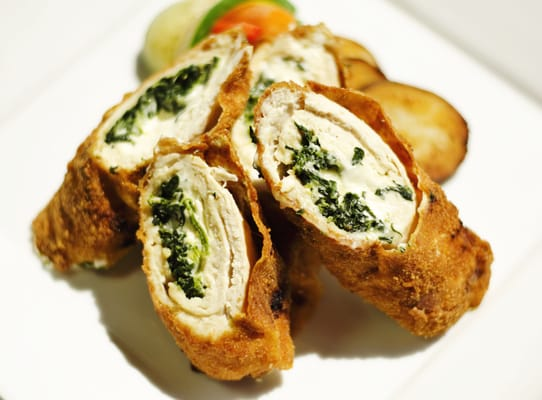soup: (137, 152, 294, 380)
